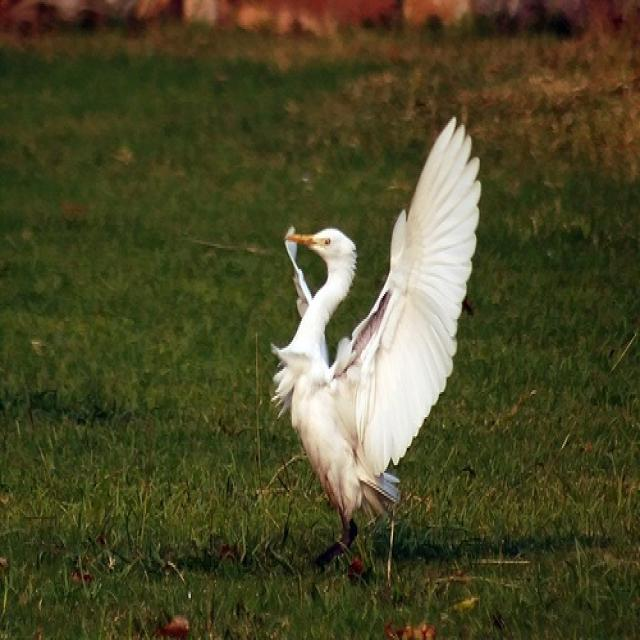bird: (266, 114, 483, 578)
